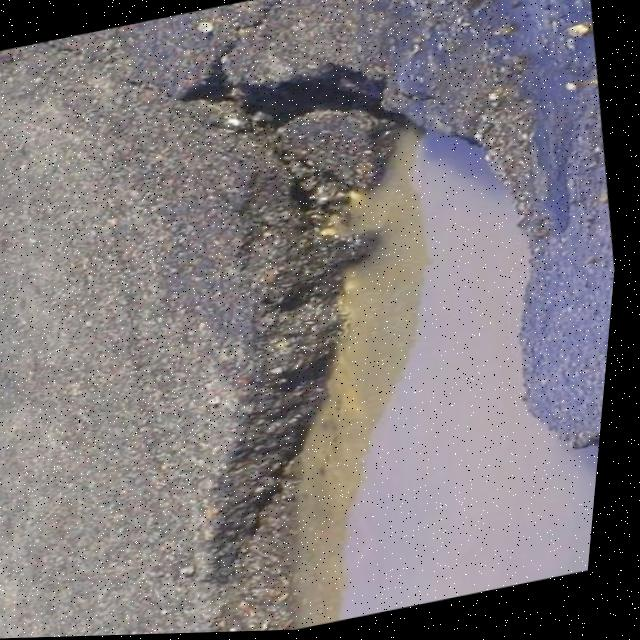Pothole: (107, 55, 635, 636)
